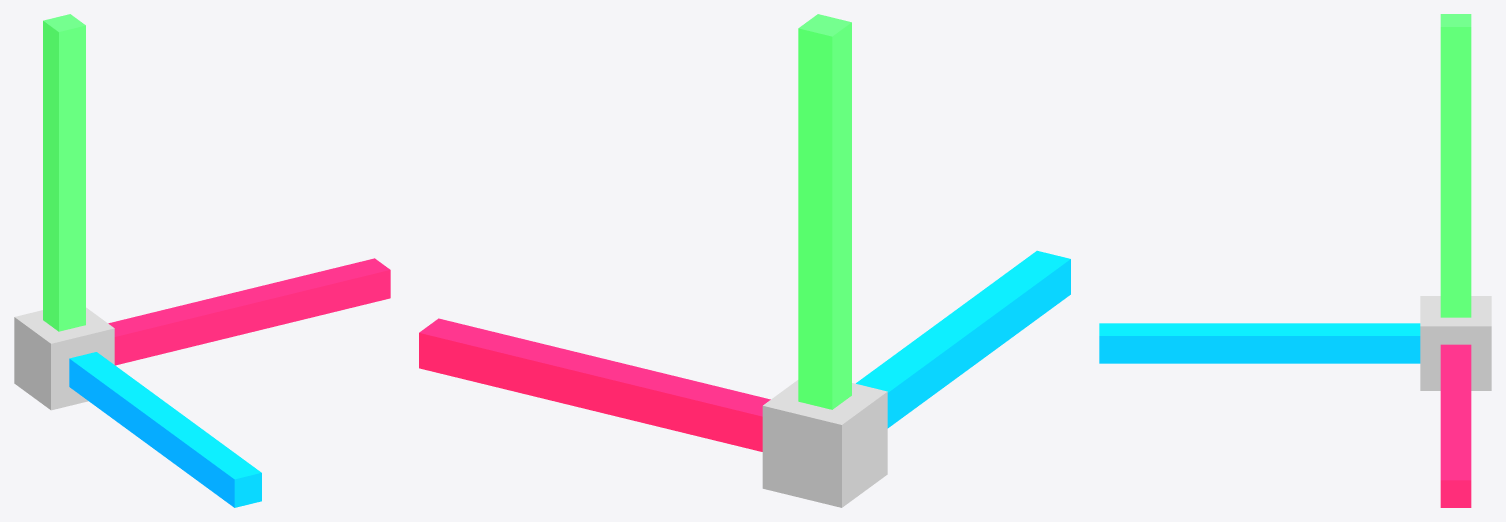
File: ee_frame.glb
3 renders of one model, left to right at view 1: azimuth 30°, elevation 25°; view 2: azimuth 150°, elevation 25°; view 3: azimuth 270°, elevation 25°, orthographic. The views are drawn at different scales.
Visible parts, largest first — view 1: ee_frame; view 2: ee_frame; view 3: ee_frame.
Boxes of the visible parts, bbox=[...] form: ee_frame: bbox=[14, 14, 390, 507]; ee_frame: bbox=[419, 14, 1070, 507]; ee_frame: bbox=[1099, 14, 1491, 507].
Size of the model in its own units: 0.0193 by 0.0193 by 0.0193.
